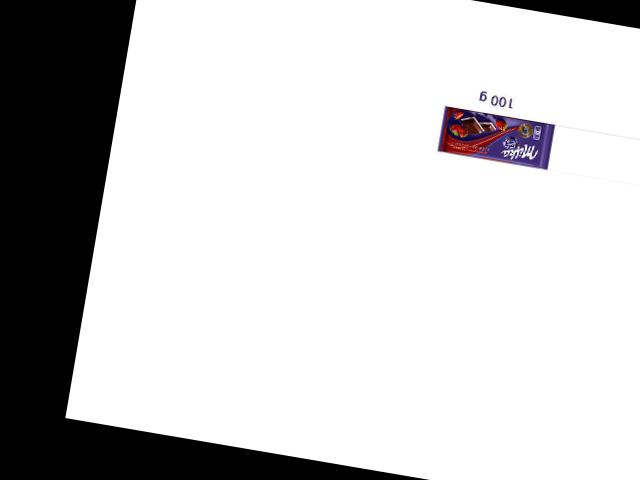chocolate: (436, 100, 555, 170)
